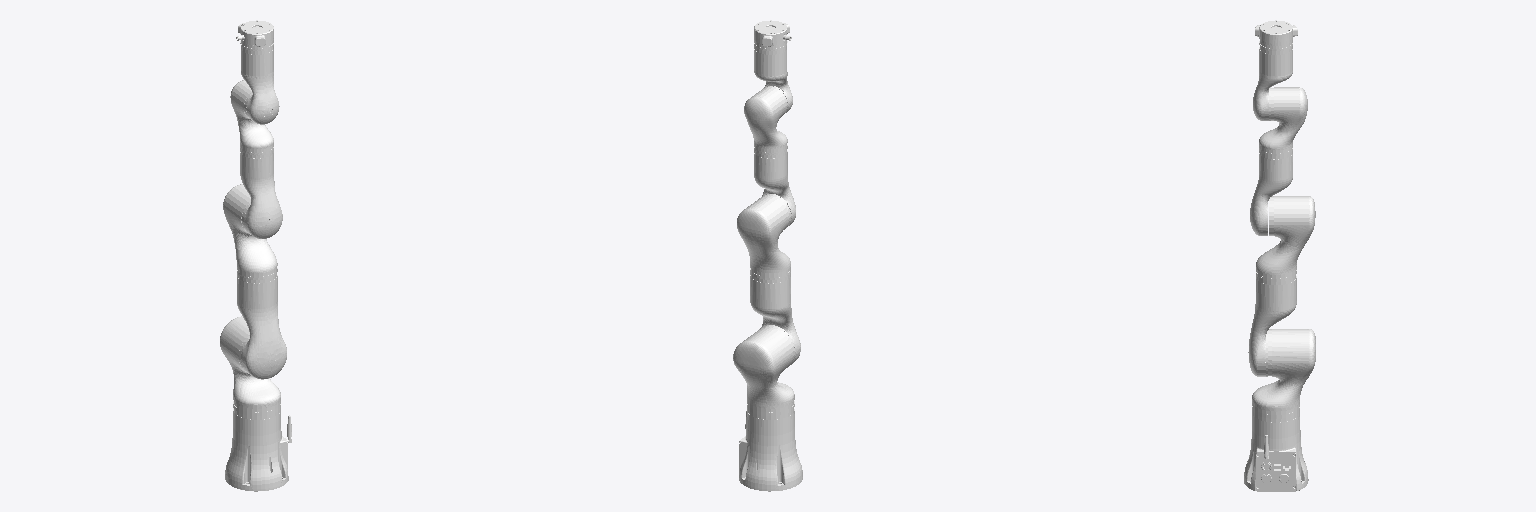
The robot description file, URDF, robot "rm_65_b_description":
<?xml version="1.0" ?><robot name="rm_65_b_description">
  <link name="base_link">
    <inertial>
      <origin xyz="-0.000433277303987328 -3.54664423471128E-05 0.0599427668933796" rpy="0 0 0"/>
      <mass value="0.841070778135659"/>
      <inertia ixx="0.0017261110801622" ixy="2.52746264980217E-06" ixz="-3.67690303614961E-05" iyy="0.00170987405835604" iyz="1.67996364994424E-06" izz="0.000904023422915791"/>
    </inertial>
    <visual>
      <origin xyz="0 0 0" rpy="0 0 0"/>
      <geometry>
        <mesh filename="./meshes/base_link.dae"/>
      </geometry>
      <material name="">
        <color rgba="1 1 1 1"/>
      </material>
    </visual>
    <collision>
      <origin xyz="0 0 0" rpy="0 0 0"/>
      <geometry>
        <mesh filename="./meshes/base_link.dae"/>
      </geometry>
    </collision>
  </link>
  <link name="Link1">
    <inertial>
      <origin xyz="1.2226305431569E-08 0.0211079974844683 -0.0251854220842269" rpy="0 0 0"/>
      <mass value="0.593563443690403"/>
      <inertia ixx="0.00126614120341847" ixy="-1.294980943835E-08" ixz="-9.80120923066996E-09" iyy="0.00118168178300364" iyz="-0.00021121727444415" izz="0.00056135241627747"/>
    </inertial>
    <visual>
      <origin xyz="0 0 0" rpy="0 0 0"/>
      <geometry>
        <mesh filename="./meshes/link1.dae"/>
      </geometry>
      <material name="">
        <color rgba="1 1 1 1"/>
      </material>
    </visual>
    <collision>
      <origin xyz="0 0 0" rpy="0 0 0"/>
      <geometry>
        <mesh filename="./meshes/link1.dae"/>
      </geometry>
    </collision>
  </link>
  <joint name="joint1" type="revolute">
    <origin xyz="0 0 0.2405" rpy="0 0 0"/>
    <parent link="base_link"/>
    <child link="Link1"/>
    <axis xyz="0 0 1"/>
    <limit lower="-3.1" upper="3.1" effort="60" velocity="3.14"/>
  </joint>
  <link name="Link2">
    <inertial>
      <origin xyz="0.152256463426163 4.75383656106654E-07 -0.00620260383607792" rpy="0 0 0"/>
      <mass value="0.864175046869043"/>
      <inertia ixx="0.00089150298478414" ixy="-2.23268489334765E-08" ixz="0.00156246461035015" iyy="0.00733754343083901" iyz="6.28110889329165E-09" izz="0.00697869103915473"/>
    </inertial>
    <visual>
      <origin xyz="0 0 0" rpy="0 0 0"/>
      <geometry>
        <mesh filename="./meshes/link2.dae"/>
      </geometry>
      <material name="">
        <color rgba="1 1 1 1"/>
      </material>
    </visual>
    <collision>
      <origin xyz="0 0 0" rpy="0 0 0"/>
      <geometry>
        <mesh filename="./meshes/link2.dae"/>
      </geometry>
    </collision>
  </link>
  <joint name="joint2" type="revolute">
    <origin xyz="0 0 0" rpy="1.5708 -1.5708 0"/>
    <parent link="Link1"/>
    <child link="Link2"/>
    <axis xyz="0 0 1"/>
    <limit lower="-2.268" upper="2.268" effort="60" velocity="3.14"/>
  </joint>
  <link name="Link3">
    <inertial>
      <origin xyz="5.05312670989961E-06 -0.0595925663694732 0.010569069212336" rpy="0 0 0"/>
      <mass value="0.289633681624654"/>
      <inertia ixx="0.00063737100450158" ixy="-7.05261293649751E-08" ixz="-3.86643272239426E-08" iyy="0.00015648388095025" iyz="-0.00014461035994916" izz="0.000614178164773085"/>
    </inertial>
    <visual>
      <origin xyz="0 0 0" rpy="0 0 0"/>
      <geometry>
        <mesh filename="./meshes/link3.dae"/>
      </geometry>
      <material name="">
        <color rgba="1 1 1 1"/>
      </material>
    </visual>
    <collision>
      <origin xyz="0 0 0" rpy="0 0 0"/>
      <geometry>
        <mesh filename="./meshes/link3.dae"/>
      </geometry>
    </collision>
  </link>
  <joint name="joint3" type="revolute">
    <origin xyz="0.256 0 0" rpy="0 0 1.5708"/>
    <parent link="Link2"/>
    <child link="Link3"/>
    <axis xyz="0 0 1"/>
    <limit lower="-2.355" upper="2.355" effort="30" velocity="3.92"/>
  </joint>
  <link name="Link4">
    <inertial>
      <origin xyz="1.15516617405898E-06 -0.0180424468598241 -0.0215394748352687" rpy="0 0 0"/>
      <mass value="0.239419768320061"/>
      <inertia ixx="0.000285938919722783" ixy="3.07101359163101E-09" ixz="-2.21994118981953E-09" iyy="0.000262727540304212" iyz="4.4236583260078E-05" izz="0.000119888082791859"/>
    </inertial>
    <visual>
      <origin xyz="0 0 0" rpy="0 0 0"/>
      <geometry>
        <mesh filename="./meshes/link4.dae"/>
      </geometry>
      <material name="">
        <color rgba="1 1 1 1"/>
      </material>
    </visual>
    <collision>
      <origin xyz="0 0 0" rpy="0 0 0"/>
      <geometry>
        <mesh filename="./meshes/link4.dae"/>
      </geometry>
    </collision>
  </link>
  <joint name="joint4" type="revolute">
    <origin xyz="0 -0.21 0" rpy="1.5708 0 0"/>
    <parent link="Link3"/>
    <child link="Link4"/>
    <axis xyz="0 0 1"/>
    <limit lower="-3.1" upper="3.1" effort="10" velocity="3.92"/>
  </joint>
  <link name="Link5">
    <inertial>
      <origin xyz="3.19794786262152E-06 -0.0593808368101458 0.00736804250989326" rpy="0 0 0"/>
      <mass value="0.218799761431678"/>
      <inertia ixx="0.000350540363914072" ixy="-3.41781619975602E-08" ixz="-1.77056457224373E-08" iyy="0.000104927867487581" iyz="-7.82431228461971E-05" izz="0.000334482418423629"/>
    </inertial>
    <visual>
      <origin xyz="0 0 0" rpy="0 0 0"/>
      <geometry>
        <mesh filename="./meshes/link5.dae"/>
      </geometry>
      <material name="">
        <color rgba="1 1 1 1"/>
      </material>
    </visual>
    <collision>
      <origin xyz="0 0 0" rpy="0 0 0"/>
      <geometry>
        <mesh filename="./meshes/link5.dae"/>
      </geometry>
    </collision>
  </link>
  <joint name="joint5" type="revolute">
    <origin xyz="0 0 0" rpy="-1.5708 0 0"/>
    <parent link="Link4"/>
    <child link="Link5"/>
    <axis xyz="0 0 1"/>
    <limit lower="-2.233" upper="2.233" effort="10" velocity="3.92"/>
  </joint>
  <link name="Link6">
    <inertial>
      <origin xyz="0.000714234511756999 -0.000396718732824521 -0.0126723660946126" rpy="0 0 0"/>
      <mass value="0.0649018034311231"/>
      <inertia ixx="2.02766547502765E-05" ixy="-1.32505200276849E-06" ixz="-2.5845091522508E-08" iyy="1.87986725225022E-05" iyz="3.39471452125439E-09" izz="3.17885459163081E-05"/>
    </inertial>
    <visual>
      <origin xyz="0 0 0" rpy="0 0 0"/>
      <geometry>
        <mesh filename="./meshes/link6.dae"/>
      </geometry>
      <material name="">
        <color rgba="1 1 1 1"/>
      </material>
    </visual>
    <collision>
      <origin xyz="0 0 0" rpy="0 0 0"/>
      <geometry>
        <mesh filename="./meshes/link6.dae"/>
      </geometry>
    </collision>
  </link>
  <joint name="joint6" type="revolute">
    <origin xyz="0 -0.144 0" rpy="1.5708 0 0"/>
    <parent link="Link5"/>
    <child link="Link6"/>
    <axis xyz="0 0 1"/>
    <limit lower="-6.28" upper="6.28" effort="10" velocity="3.92"/>
  </joint>
</robot>

--- What the picture shows (computed from the rendered views, not written in the file) ---
Views: 3 orthographic renders of the robot side by side, from view 1: azimuth 30°, elevation 25°; view 2: azimuth 150°, elevation 25°; view 3: azimuth 270°, elevation 25°.
Robot: rm_65_b_description — 7 links, 6 joints (6 revolute); root link base_link; default pose: all joints at 0.
Links seen in each view (by area): view 1: Link2, base_link, Link3, Link1, Link5, Link4, Link6; view 2: Link2, base_link, Link1, Link4, Link3, Link5, Link6; view 3: Link2, base_link, Link1, Link4, Link3, Link5, Link6.
Boxes of the visible links, left/top/right/bottom form: Link2: left=223, top=184, right=286, bottom=379; base_link: left=225, top=406, right=291, bottom=491; Link3: left=240, top=148, right=282, bottom=238; Link1: left=220, top=316, right=280, bottom=414; Link5: left=241, top=45, right=279, bottom=124; Link4: left=230, top=80, right=273, bottom=153; Link6: left=236, top=20, right=273, bottom=49; Link2: left=737, top=194, right=800, bottom=364; base_link: left=739, top=406, right=802, bottom=491; Link1: left=733, top=325, right=795, bottom=414; Link4: left=744, top=86, right=788, bottom=153; Link3: left=754, top=147, right=795, bottom=225; Link5: left=754, top=45, right=792, bottom=112; Link6: left=754, top=20, right=791, bottom=49; Link2: left=1248, top=196, right=1315, bottom=376; base_link: left=1244, top=409, right=1308, bottom=491; Link1: left=1252, top=329, right=1315, bottom=416; Link4: left=1259, top=87, right=1307, bottom=154; Link3: left=1250, top=149, right=1292, bottom=235; Link5: left=1253, top=44, right=1292, bottom=120; Link6: left=1255, top=20, right=1297, bottom=49.
Bounding box of the posed robot: 0.1143 × 0.123 × 0.8505 m (x, y, z).
7 mesh visuals loaded from 7 distinct referenced files (7 Collada DAE).